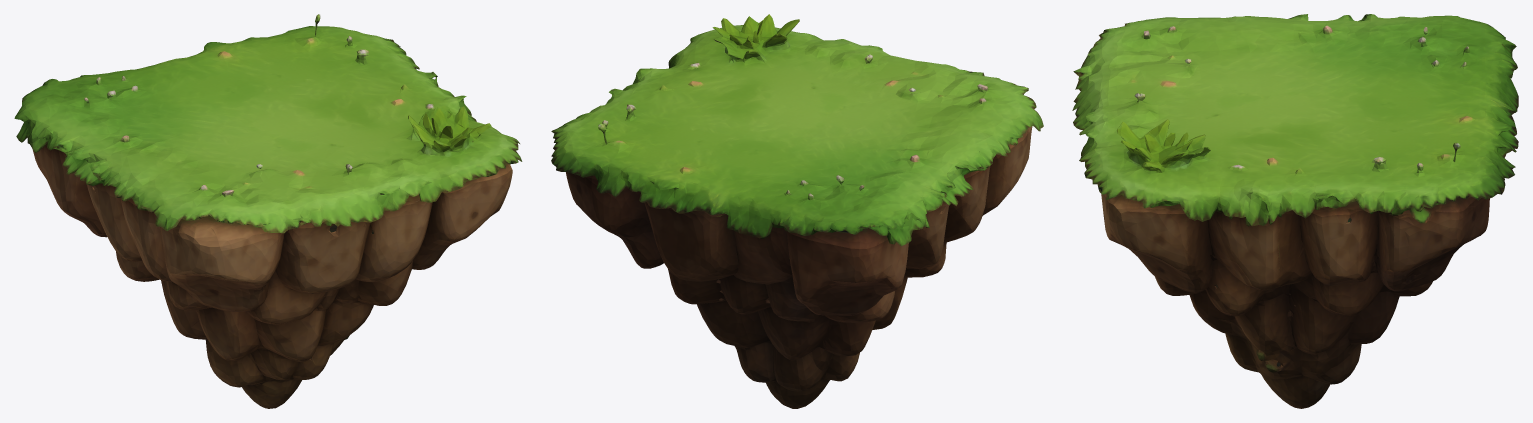
Rendered from island.glb.
3 renders of one model, left to right at view 1: azimuth 30°, elevation 25°; view 2: azimuth 150°, elevation 25°; view 3: azimuth 270°, elevation 25°, orthographic. The views are drawn at different scales.
Visible parts, largest first — view 1: geometry_0; view 2: geometry_0; view 3: geometry_0.
Boxes of the visible parts, box(x1,y1,x2,y2) form: geometry_0: box(14, 14, 522, 408); geometry_0: box(551, 14, 1043, 408); geometry_0: box(1072, 14, 1518, 408).
Size of the model in its own units: 0.9972 by 0.8004 by 0.9829.
Materials: 1 (1 with a texture image).
